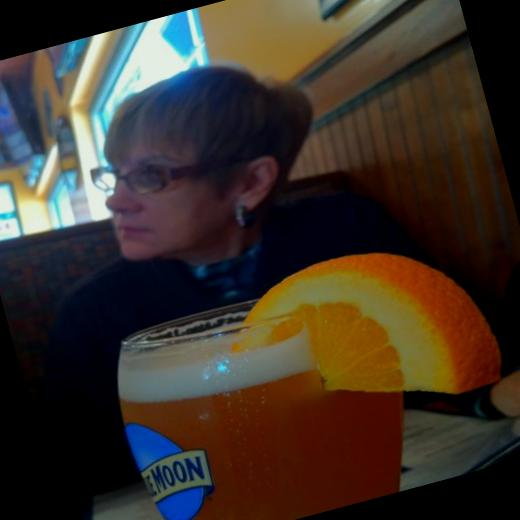Grape: (217, 220, 508, 447)
